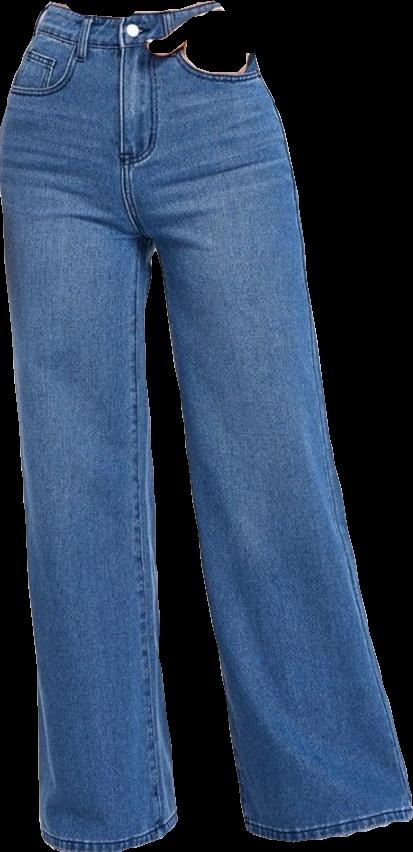Hemline: (44, 815, 185, 851), (244, 812, 412, 842)
Pantleg: (120, 0, 412, 842), (0, 3, 177, 851)
Waistline: (34, 17, 237, 49), (44, 0, 223, 25)
